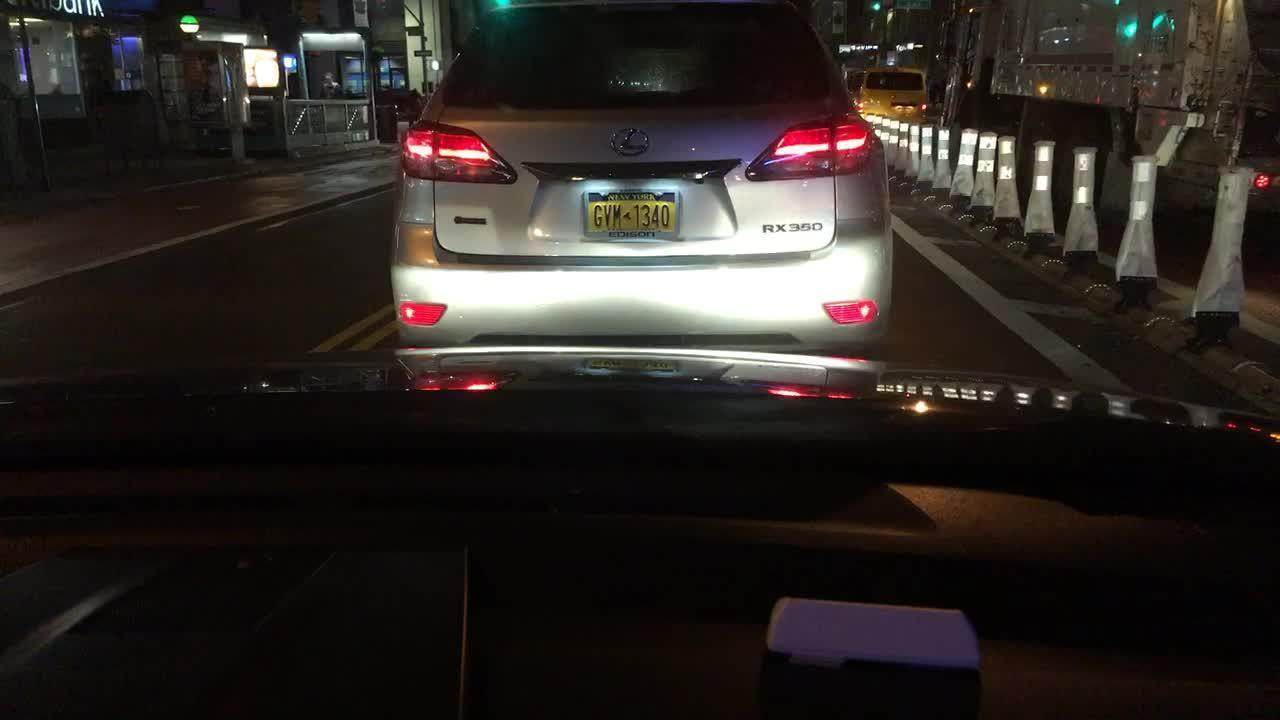lexus: (597, 117, 660, 166)
